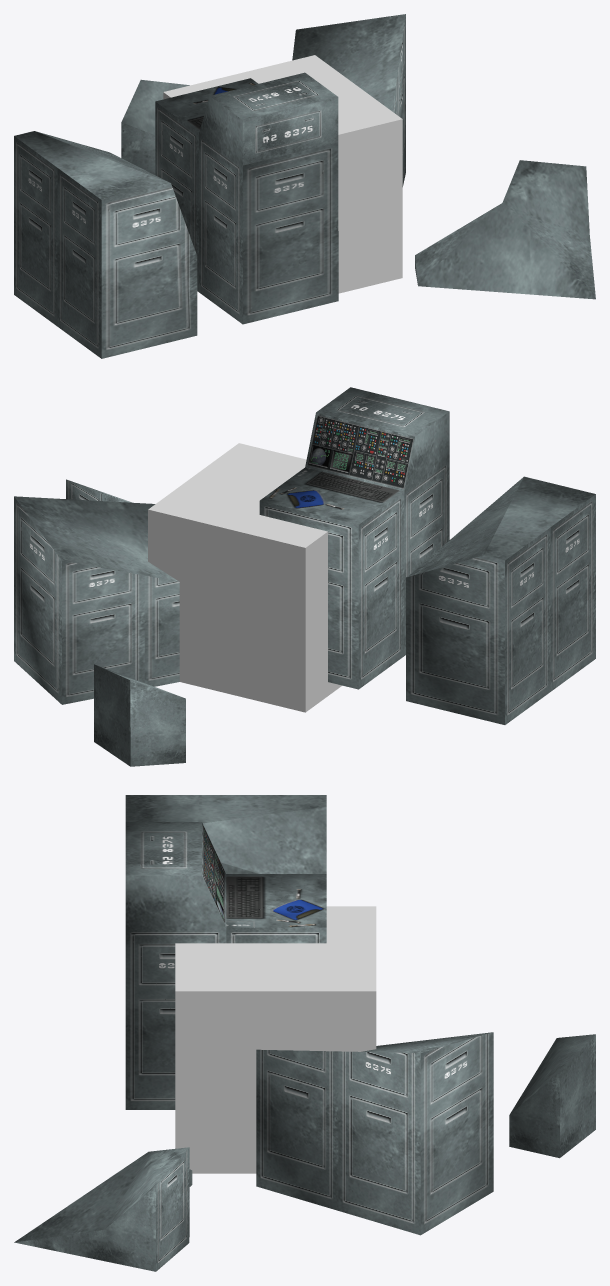
File: pbscen04.FBX
3 views of the same model, one above another, from view 1: azimuth 30°, elevation 25°; view 2: azimuth 150°, elevation 25°; view 3: azimuth 270°, elevation 25° (orthographic). The views are drawn at different scales.
Parts seen in each view (by area): view 1: pbscen04, hp_dummyroot; view 2: pbscen04, hp_dummyroot; view 3: pbscen04, hp_dummyroot.
Part boxes in pixels (x1,y1,x2,y2): pbscen04: [14, 14, 595, 358]; hp_dummyroot: [163, 55, 402, 293]; pbscen04: [14, 387, 595, 766]; hp_dummyroot: [148, 443, 341, 712]; pbscen04: [14, 795, 595, 1271]; hp_dummyroot: [175, 906, 376, 1173].
Bounding box in the file's own units: 3.28 × 2.89 × 1.37.
